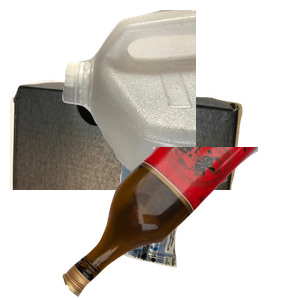cardboard: (10, 77, 245, 257)
glass: (60, 147, 300, 300)
plastic: (60, 10, 300, 190)
trash: (104, 152, 280, 300)
